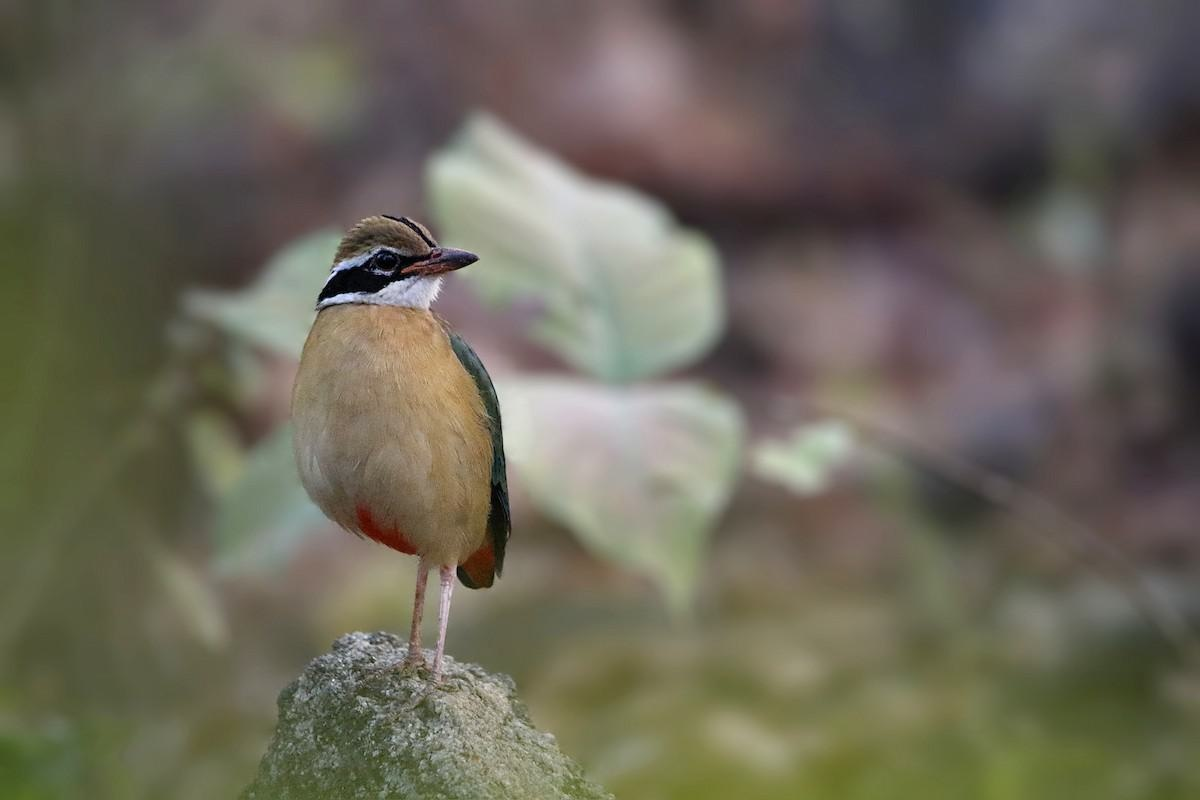pitta: (260, 210, 514, 687)
